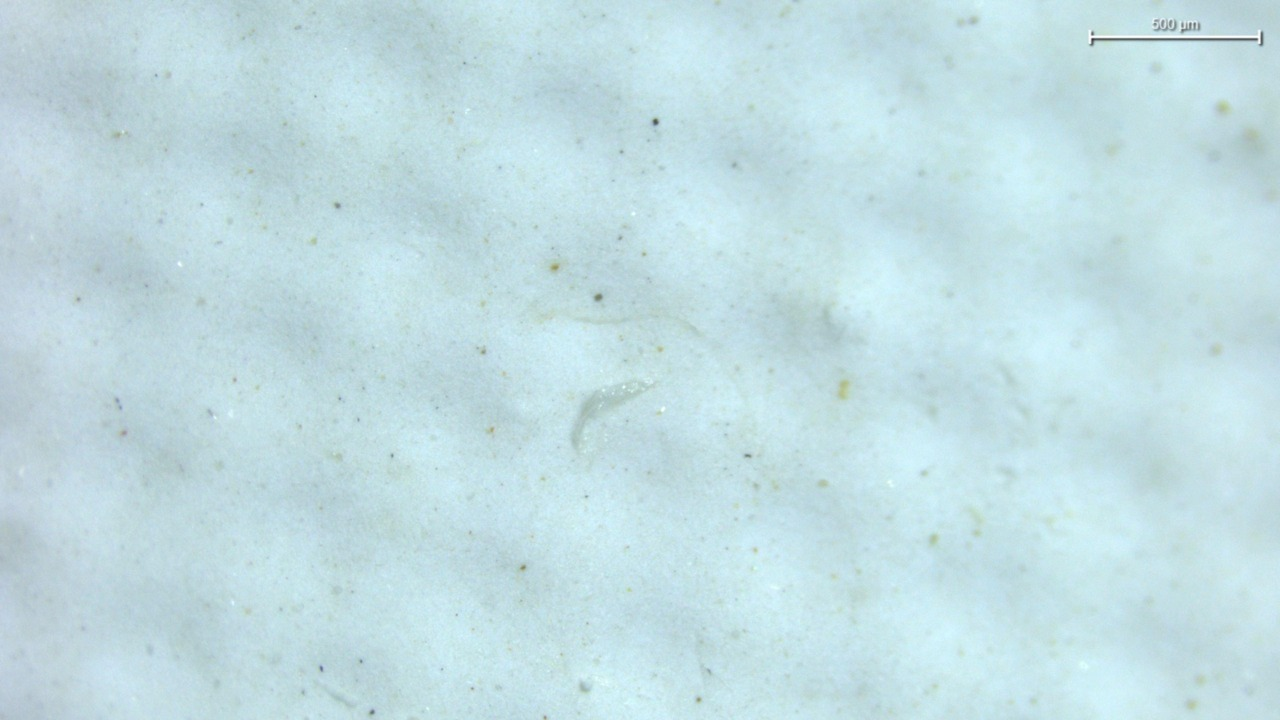microplastic_fragment: (571, 380, 655, 453)
